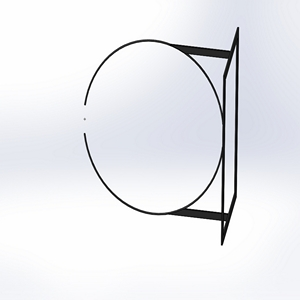circle: (80, 25, 242, 247)
